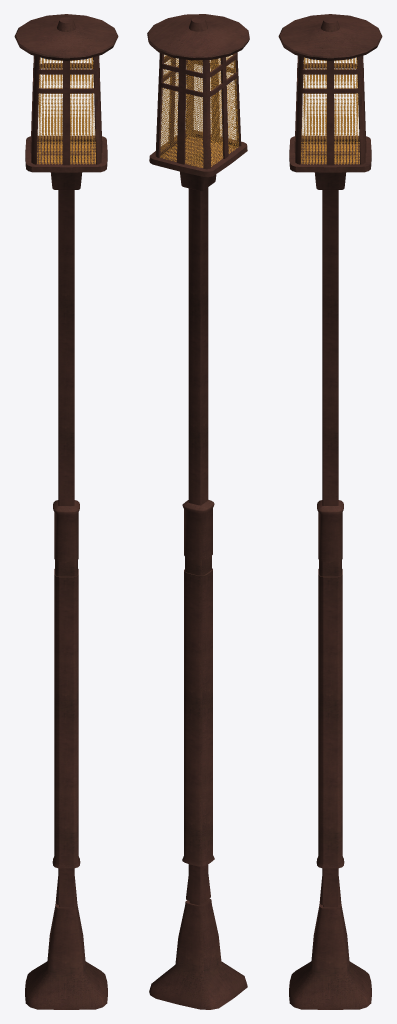
The picture shows the model from 3 angles, left to right: view 1: azimuth 90°, elevation 25°; view 2: azimuth 150°, elevation 25°; view 3: azimuth 270°, elevation 25°; orthographic projection.
Visible parts, largest first — view 1: Box002; view 2: Box002; view 3: Box002.
Boxes of the visible parts, x1,y1,x2,y2 form: Box002: [14, 14, 118, 1009]; Box002: [147, 14, 249, 1009]; Box002: [278, 14, 382, 1009].
Bounding box in the file's own units: 9.76 × 101 × 9.76.
2 materials, 2 textured.
